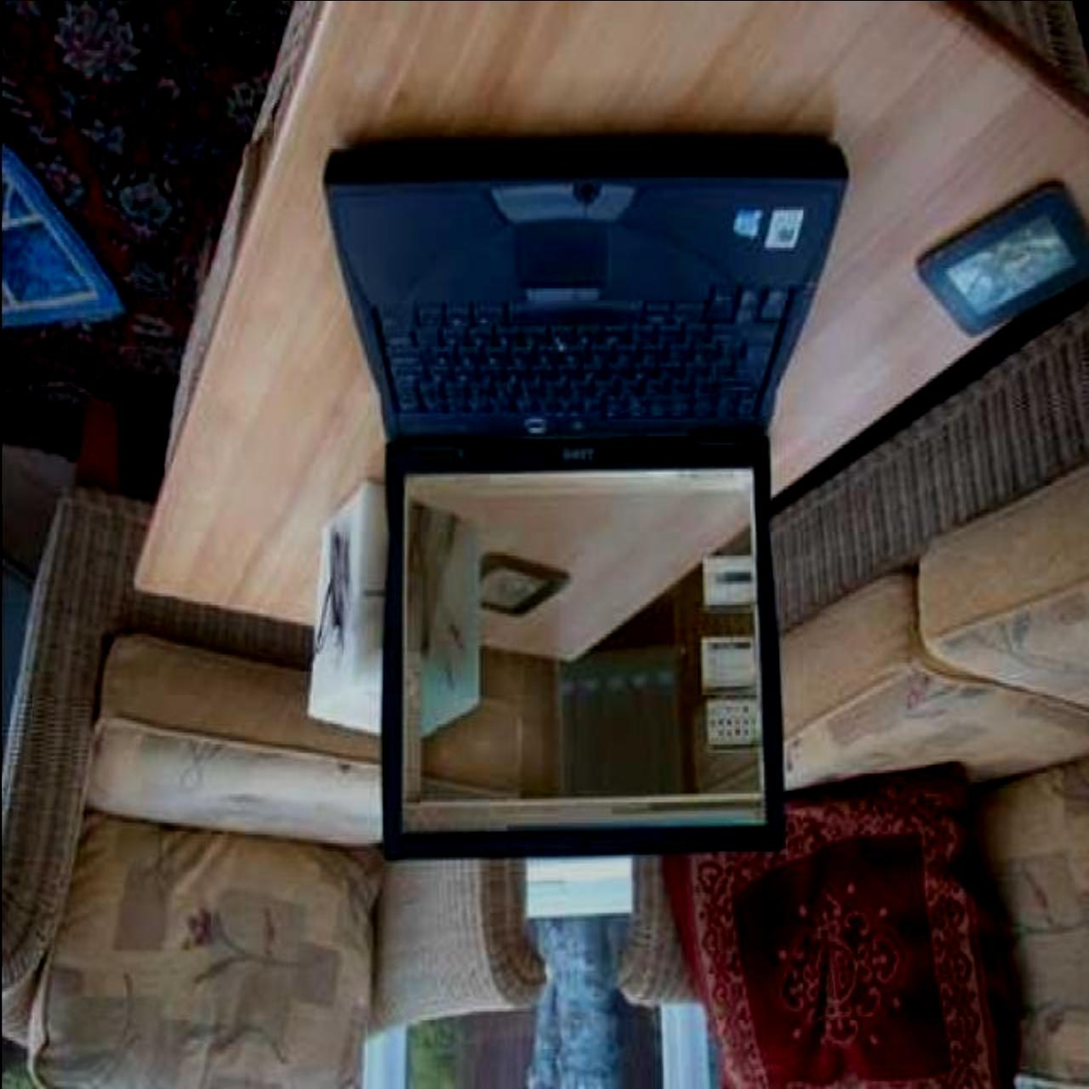laptop: (308, 137, 842, 761)
